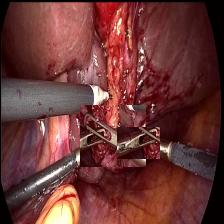Grasper: (79, 104, 144, 165), (116, 126, 159, 158)
Hook: (91, 81, 115, 112)
